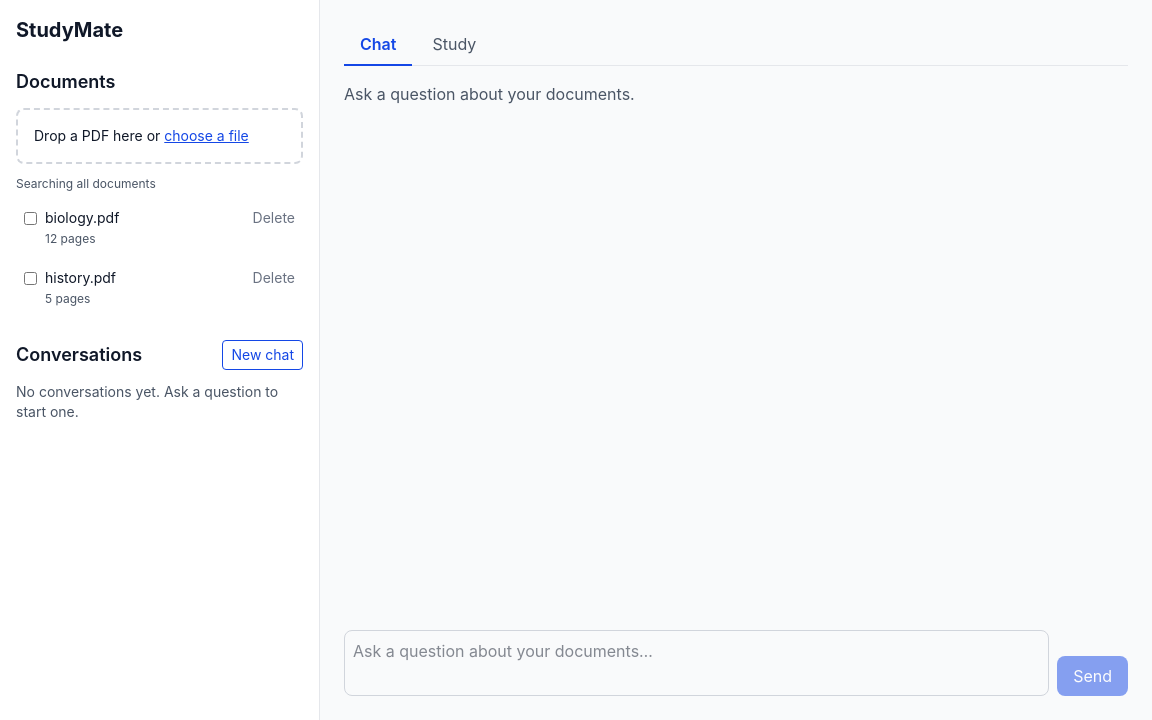
Test: App › drops a deleted document from the selection
Click the checkbox labelled "biology.pdf 12 pages": (30, 218) [24, 212, 37, 225]
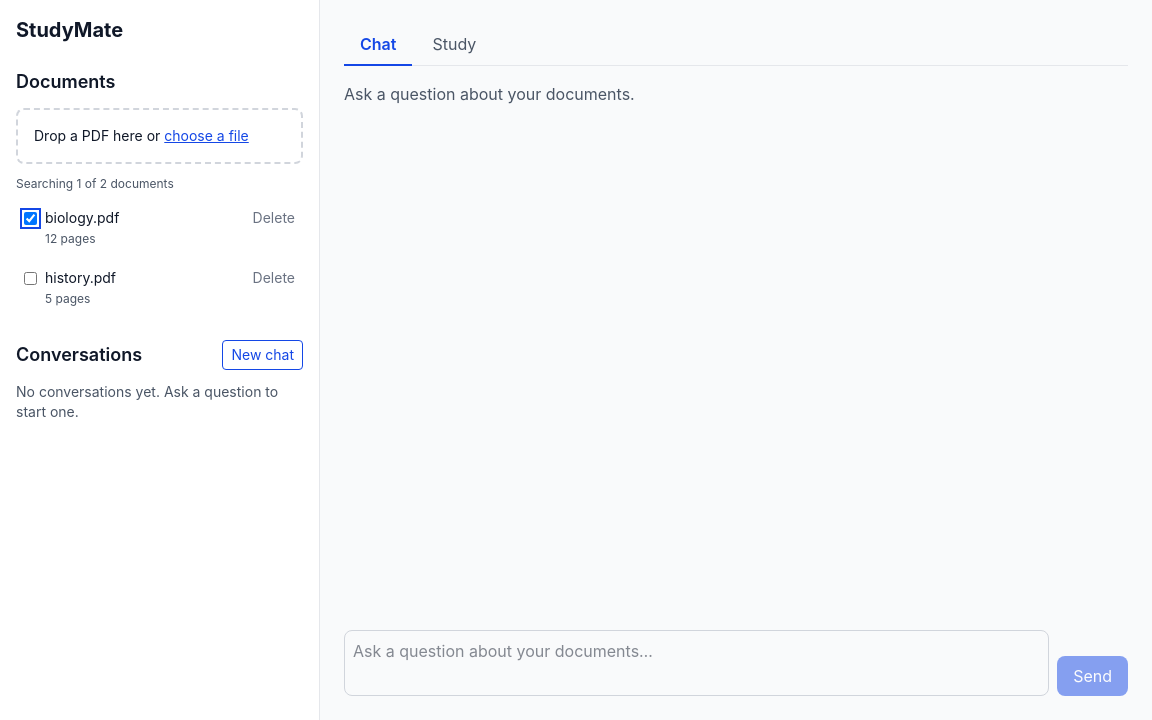
Click the button with aria-label "Delete biology.pdf": (274, 218) [253, 208, 295, 228]
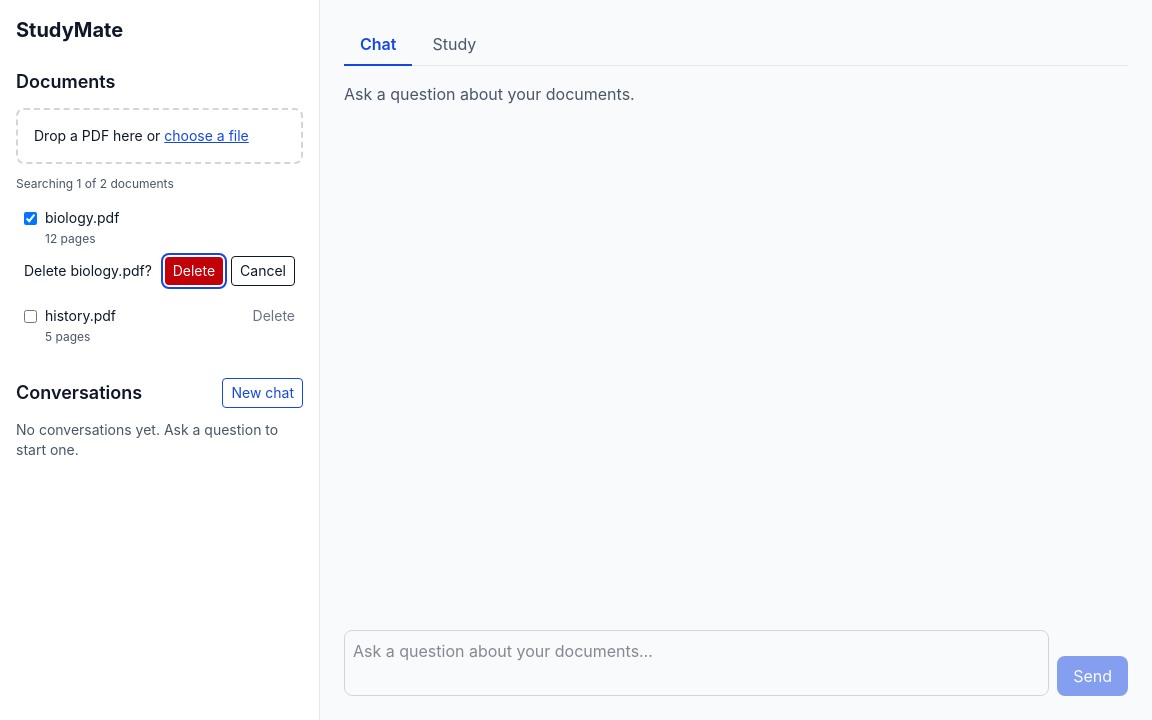
Click the button "Delete" below "12": (194, 271) [165, 257, 223, 285]
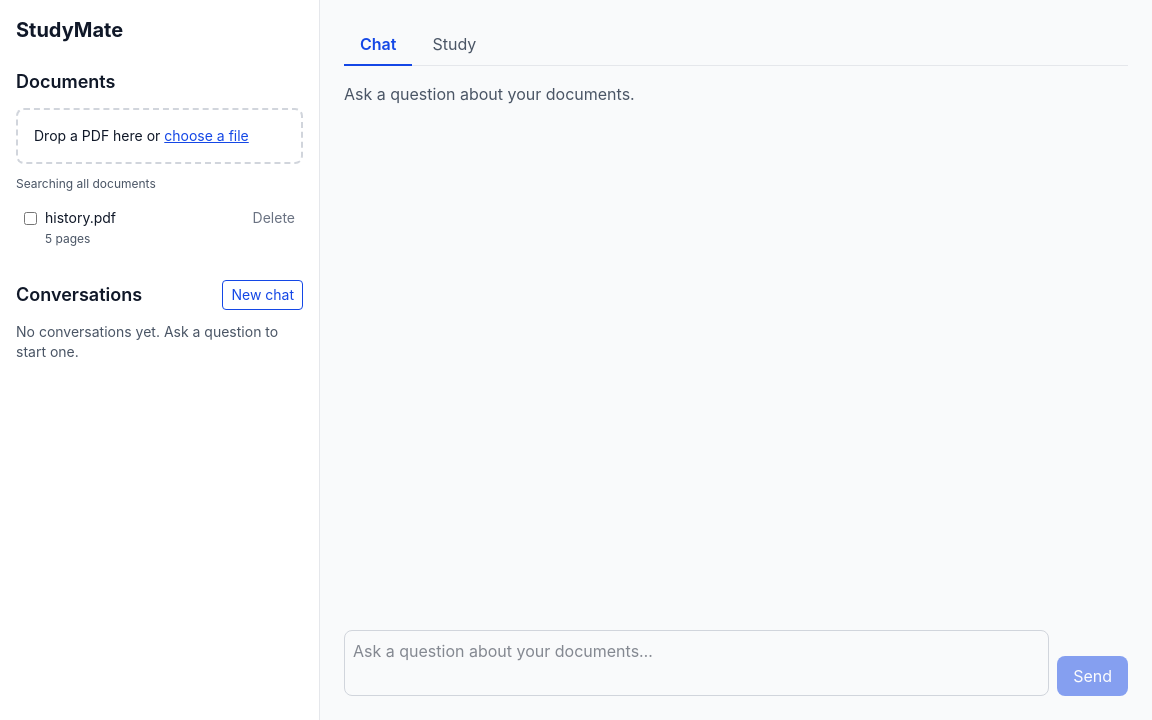
Expected: the text "Searching all documents" is shown, [16, 176, 156, 191]
Expected: the text "biology.pdf" is gone
